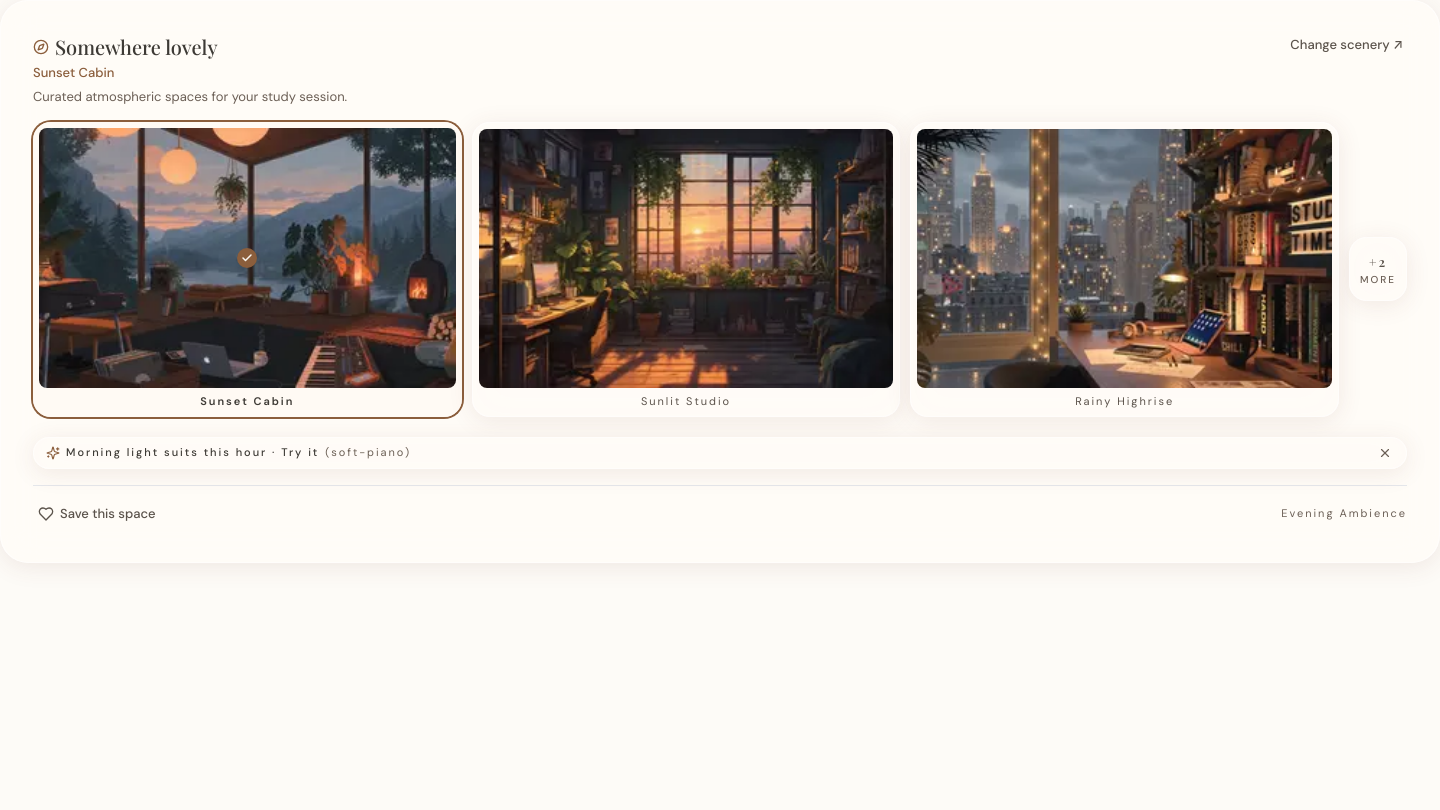
Test case: SceneryCard - Scene Suggestion Chip › applies suggested scene when clicked
Click the button named "switch to suggested scene: sunlit studio" at {"x": 193, "y": 452}, box [46,445,1368,460]
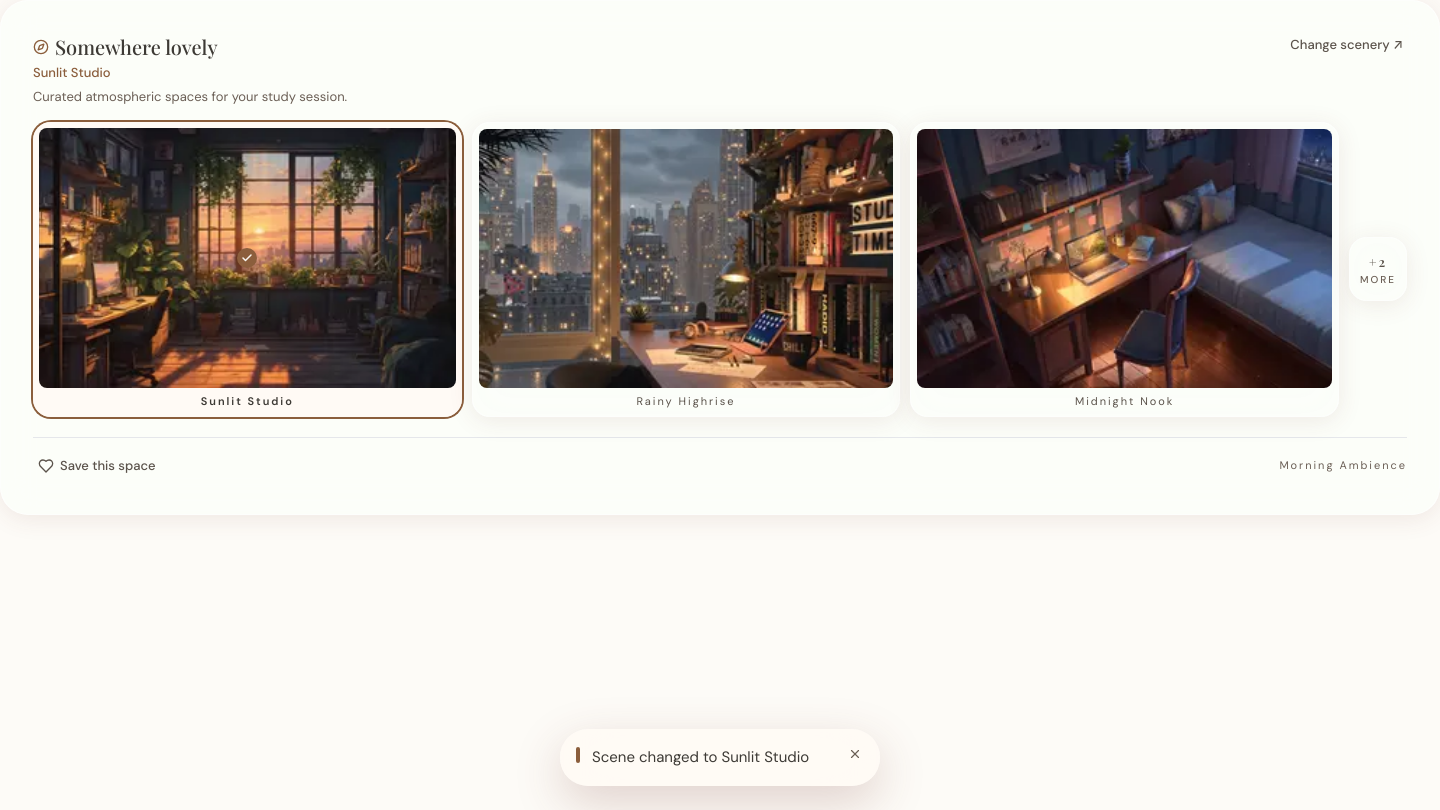
Expected: the element with test id "scene-suggestion-chip" is gone
